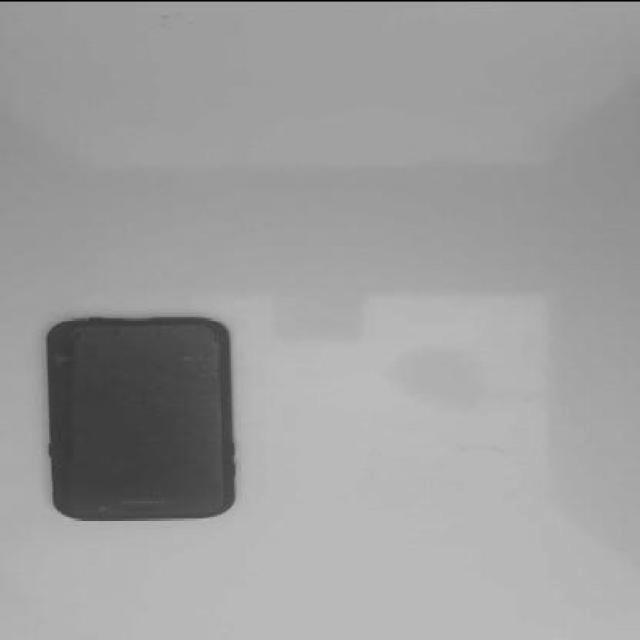fake: (52, 316, 231, 519)
